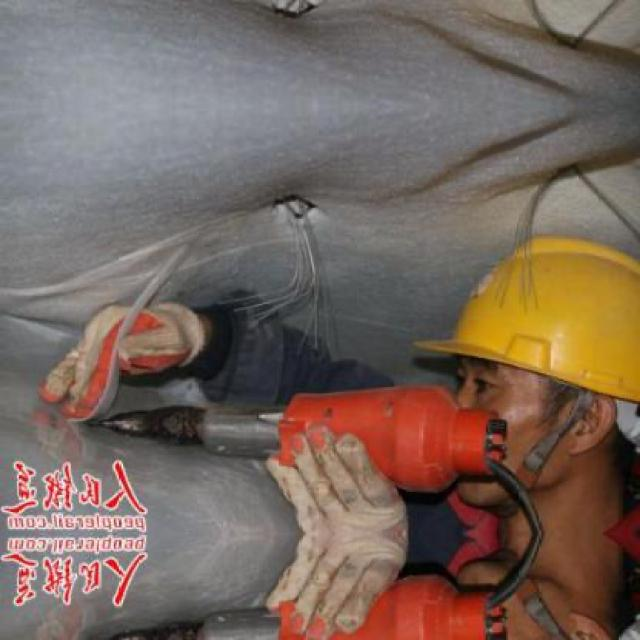helmet: (410, 199, 638, 520), (409, 548, 640, 638)
